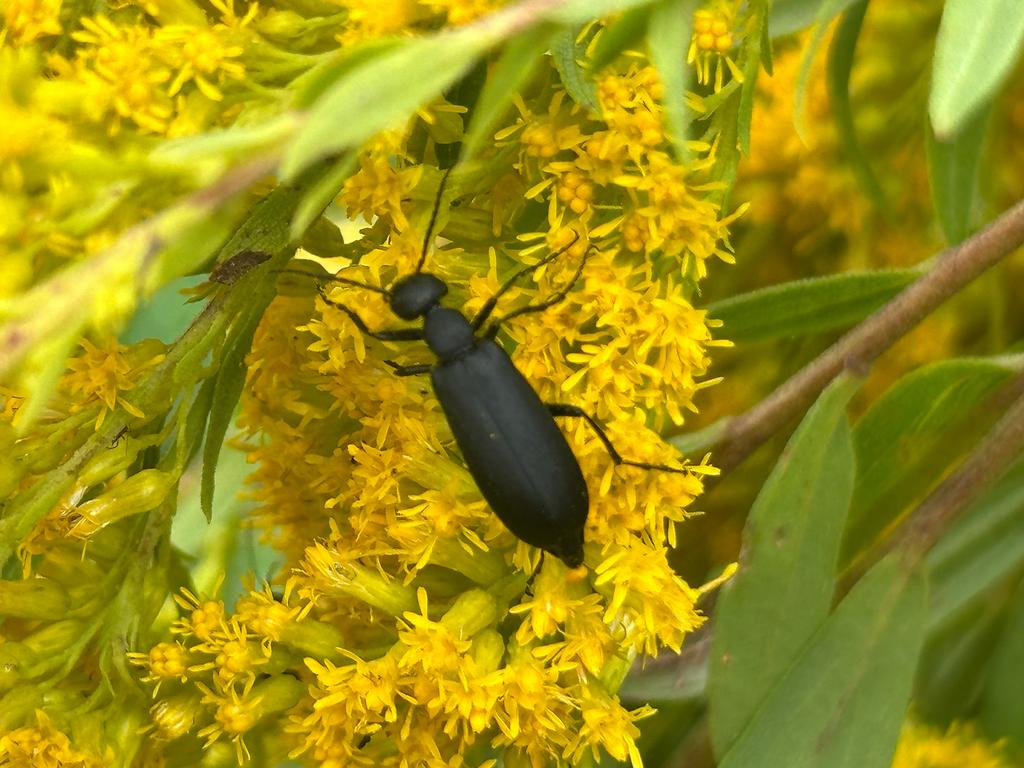blister_beetle: (231, 101, 752, 618)
